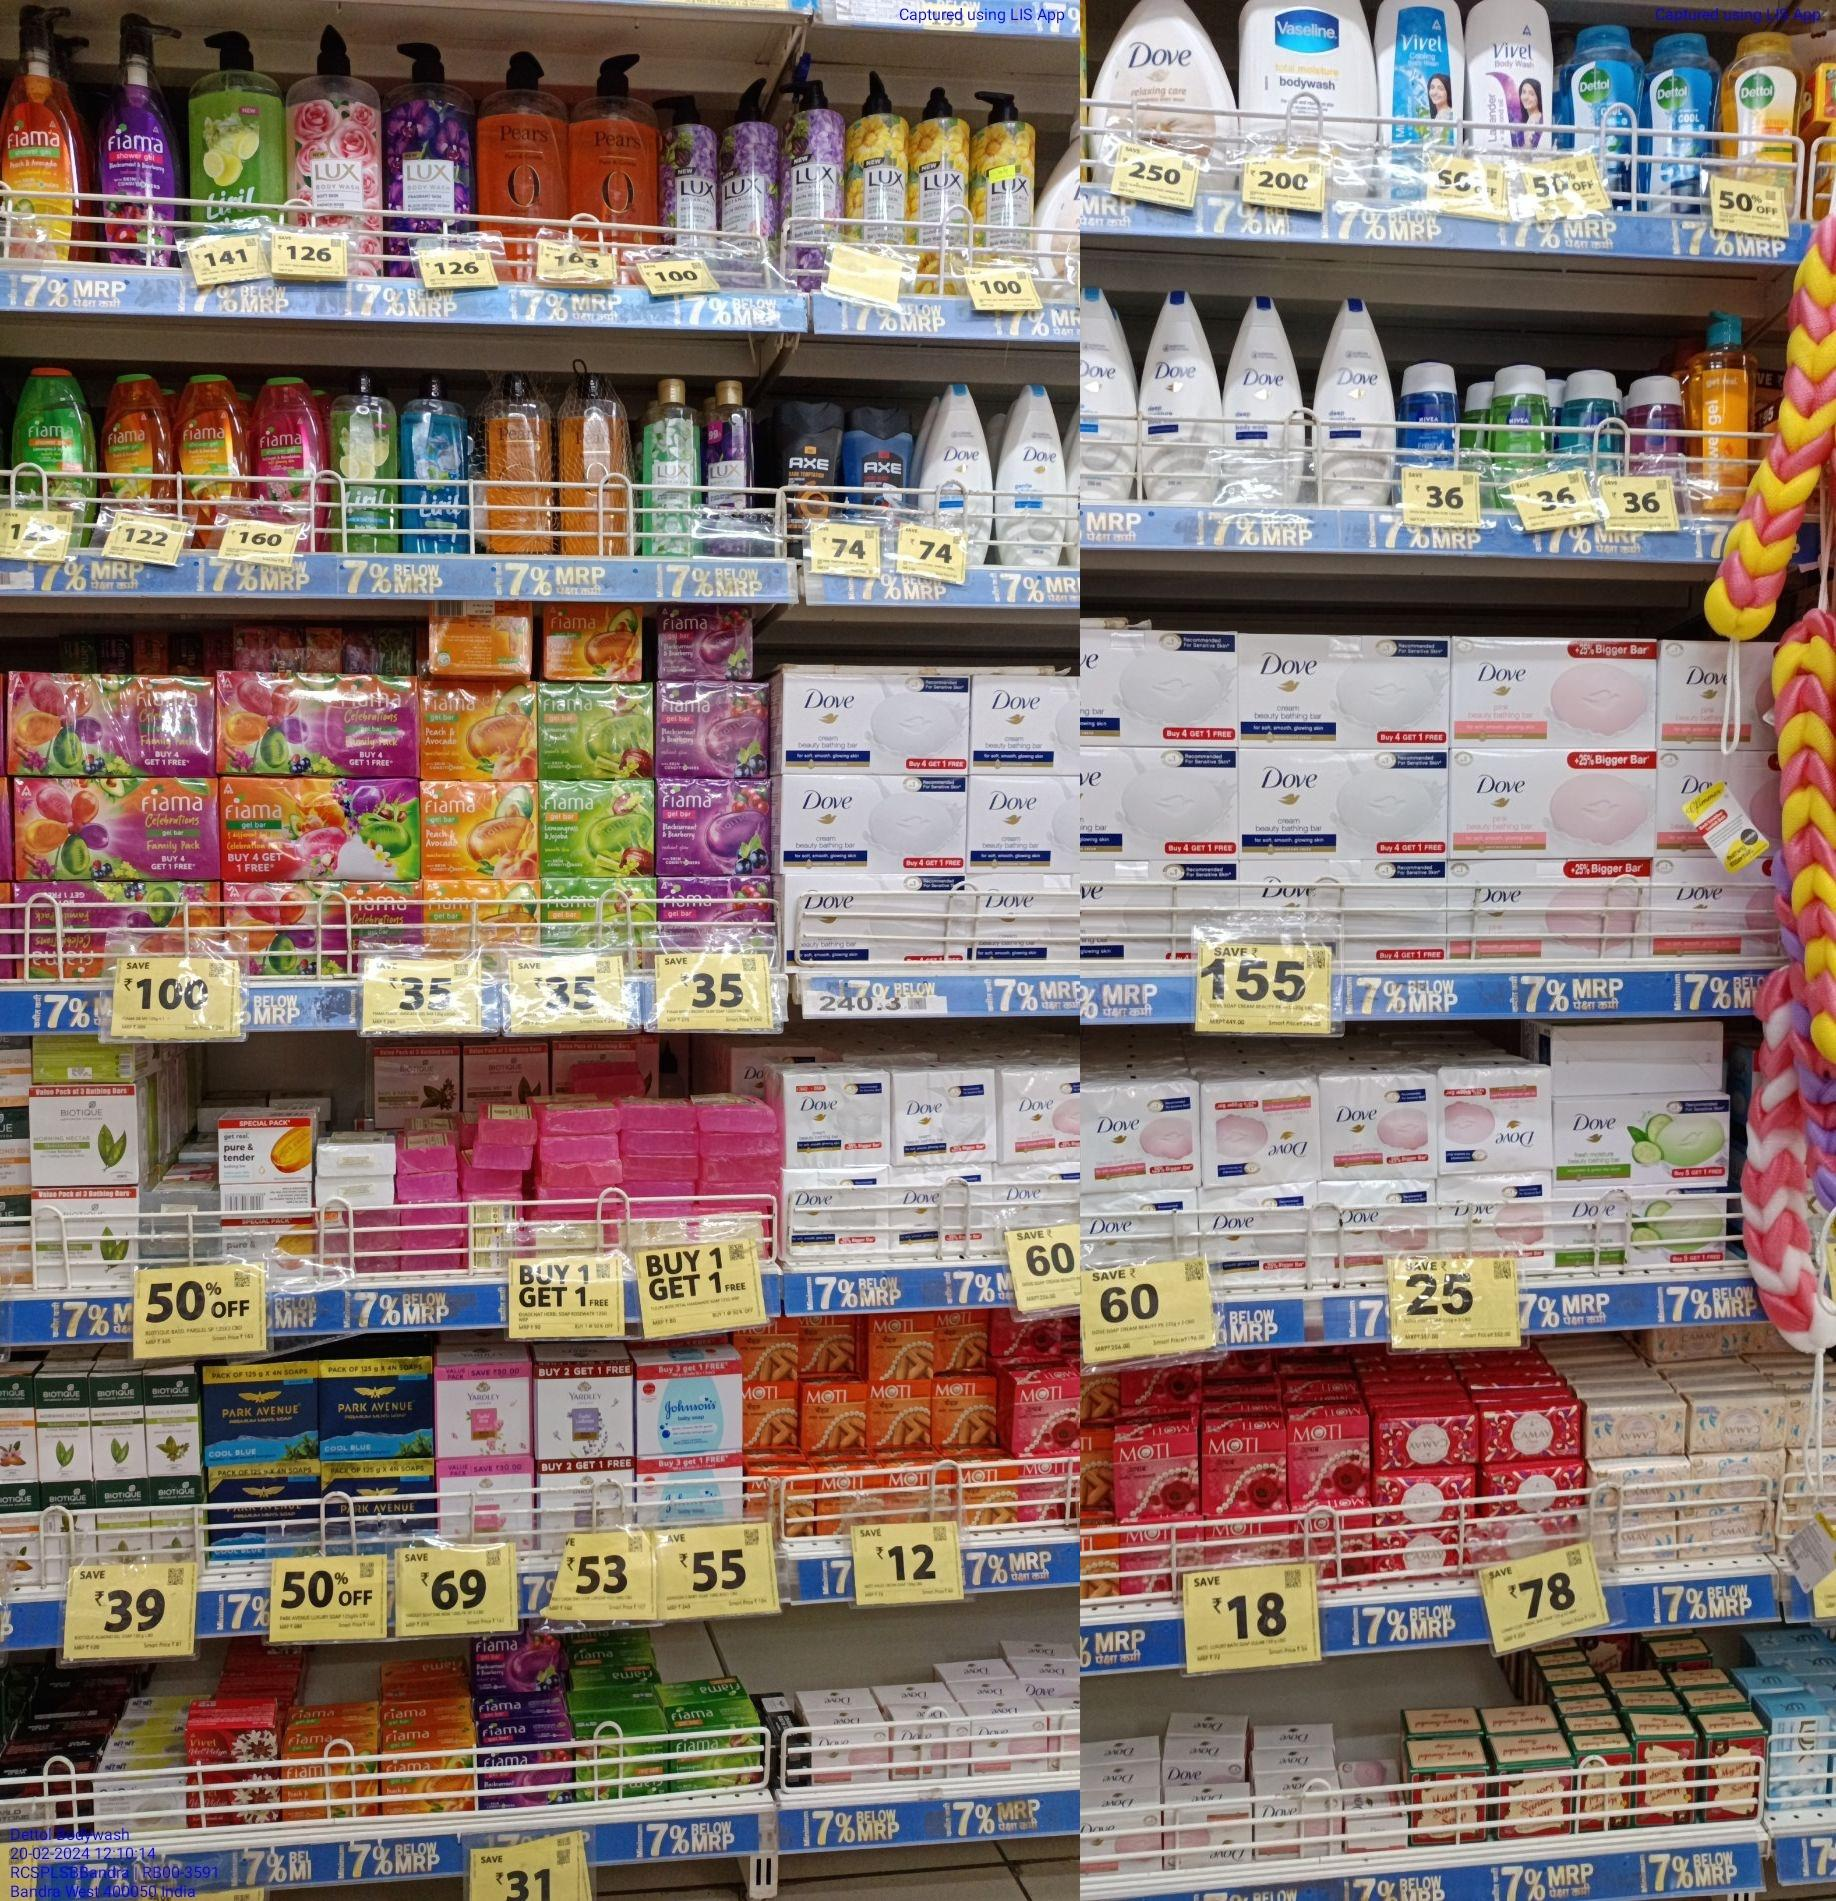Dettol_Bodywash_Cool: (1643, 32, 1712, 207), (1563, 25, 1636, 158)
Dettol_Bodywash_Refresh: (1724, 31, 1809, 180)
Dove_Deep_Moisture_Body_Wash_250ML: (1310, 295, 1397, 509), (1142, 282, 1222, 499), (1227, 287, 1305, 504)
Dove_Gentle_Exfoliating_Body_Wash_250ML: (998, 382, 1066, 570), (1081, 287, 1137, 502), (918, 385, 991, 524)
Fiama_Shower_Gel_Lemongrass_and_Jojoba_250ML: (15, 372, 98, 504)
Fiama_Shower_Gel_Patchouli_and_Macadamia_250ML: (255, 375, 321, 521)
Fiama_Shower_Gel_Peach_and_Avocado_250ML: (180, 372, 253, 513), (104, 377, 175, 511)
Liril_Cooling_Mint_Body_Wash_250ML: (404, 377, 470, 553)
Liril_Lime_and_Tea_Tree_Oil_Body_Wash_250ML: (327, 375, 399, 552)
Lux_Black_Orchid_Scent_and_Juniper_Oil_Body_Wash_245ML: (706, 380, 757, 514)
Lux_Body_Wash_Skin_Detox_Freesia_Scent_and_Alove_Vera_245ML: (643, 377, 697, 557)
Nivea_Shower_Gel_Fresh_Powerfruit_250ML: (1403, 365, 1463, 467)
Nivea_Shower_Gel_Lemon_and_Oil_250ML: (1490, 360, 1549, 470)
